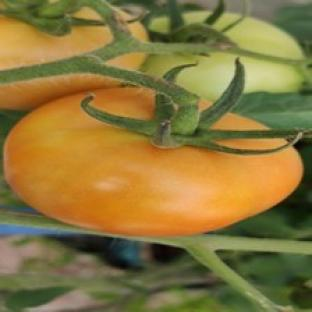Tomato: (5, 94, 302, 236), (0, 17, 111, 69), (144, 51, 236, 100)
